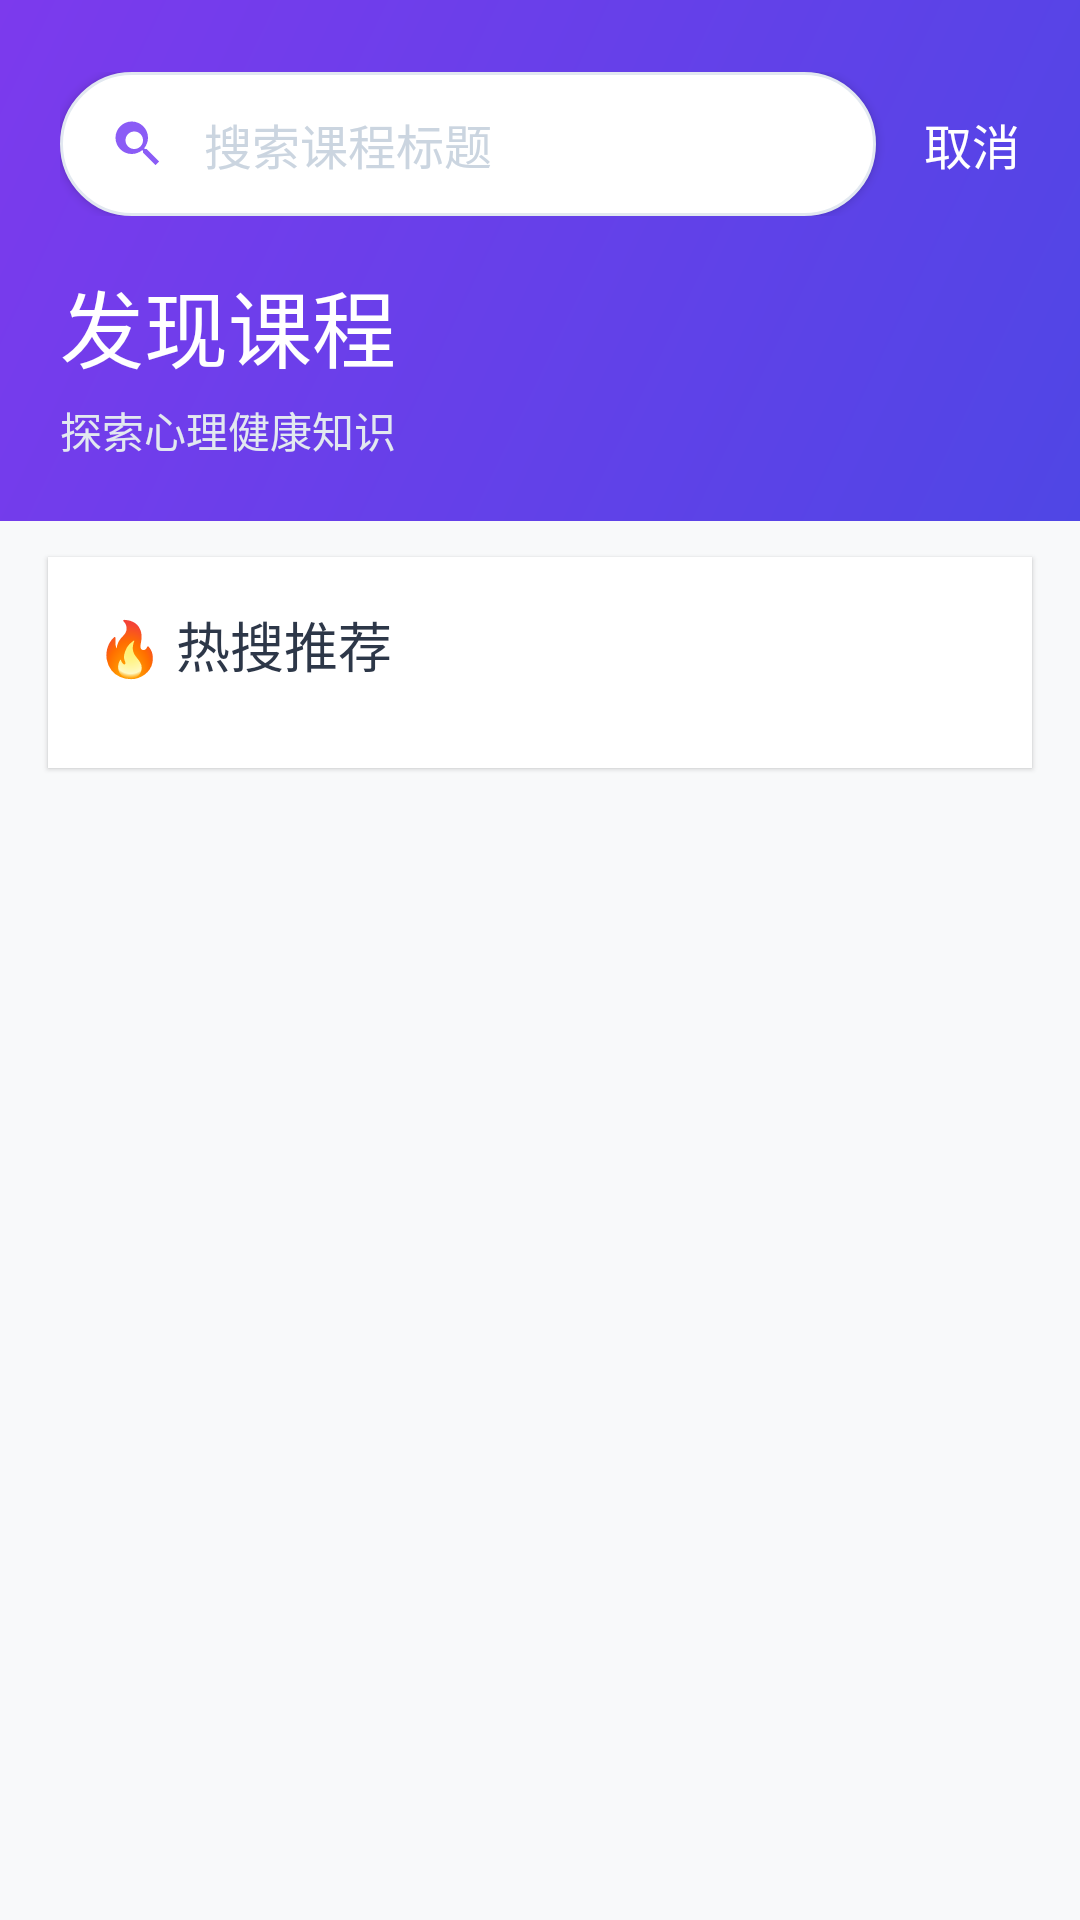

Icons on this 1080px×1920px Android screen, each with its box as (x1, y1, x2, y2):
搜索图标: (115, 121, 159, 165)
